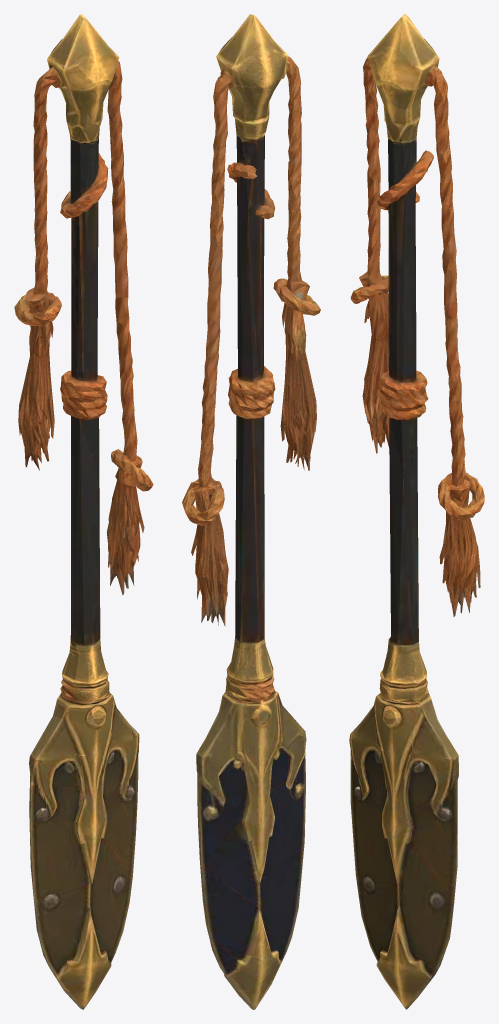
File: remo.glb
The picture shows the model from 3 angles, left to right: view 1: azimuth 30°, elevation 25°; view 2: azimuth 210°, elevation 25°; view 3: azimuth 330°, elevation 25°; orthographic projection.
Bounding box in the file's own units: 0.2421 × 1.9 × 0.1408.
1 material, 1 textured.
